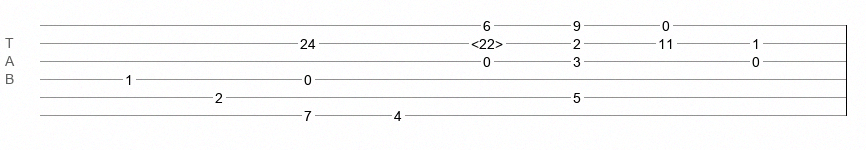0: (304, 72, 312, 82), (483, 54, 491, 64), (662, 18, 670, 28), (752, 54, 760, 64)
1: (125, 72, 133, 82), (752, 36, 760, 46)
11: (658, 36, 674, 46)
2: (215, 90, 223, 100), (573, 36, 581, 46)
24: (300, 36, 316, 46)
3: (573, 54, 581, 64)
4: (394, 108, 402, 118)
5: (573, 90, 581, 100)
6: (483, 18, 491, 28)
7: (304, 108, 312, 118)
9: (573, 18, 581, 28)
harmonic: (471, 36, 503, 46)
